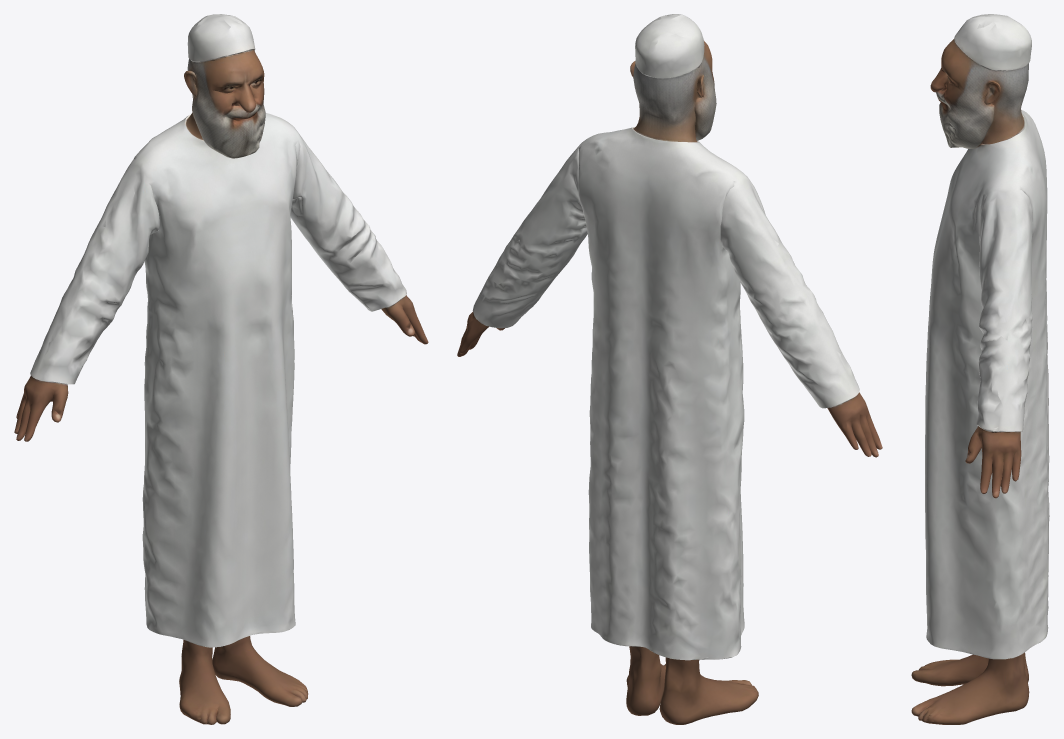
The model's file is levi_4.glb.
3 views of the same model, side by side, from view 1: azimuth 30°, elevation 25°; view 2: azimuth 150°, elevation 25°; view 3: azimuth 270°, elevation 25° (orthographic). The views are drawn at different scales.
Parts seen in each view (by area): view 1: Mesh; view 2: Mesh; view 3: Mesh.
Part boxes in pixels (<box>): Mesh: <box>14,14,428,724</box>; Mesh: <box>457,14,882,724</box>; Mesh: <box>911,14,1049,724</box>.
Size of the model in its own units: 1.21 by 1.9 by 0.3485.
Materials: 1 (1 with a texture image).
